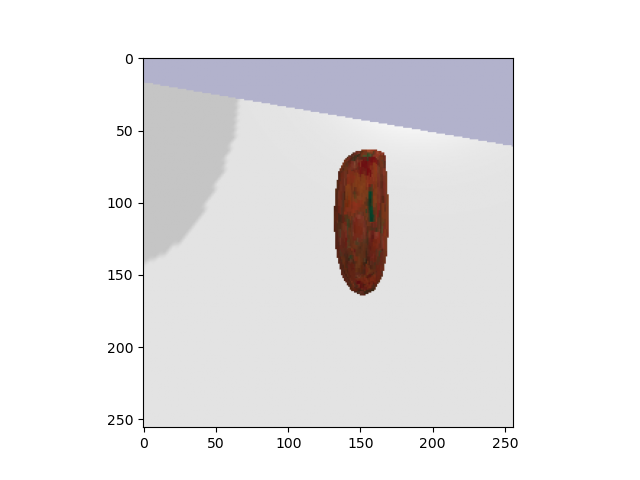v249b387_106: (324, 137, 404, 306)
